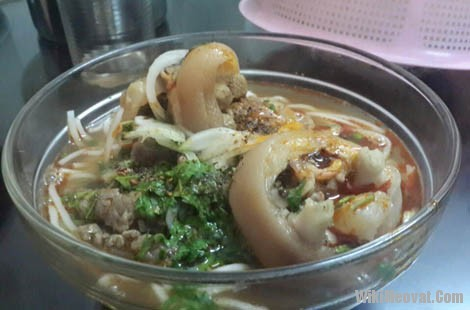onion: (143, 169, 216, 238), (165, 129, 237, 195)
pork: (237, 133, 394, 259), (179, 40, 246, 133)
